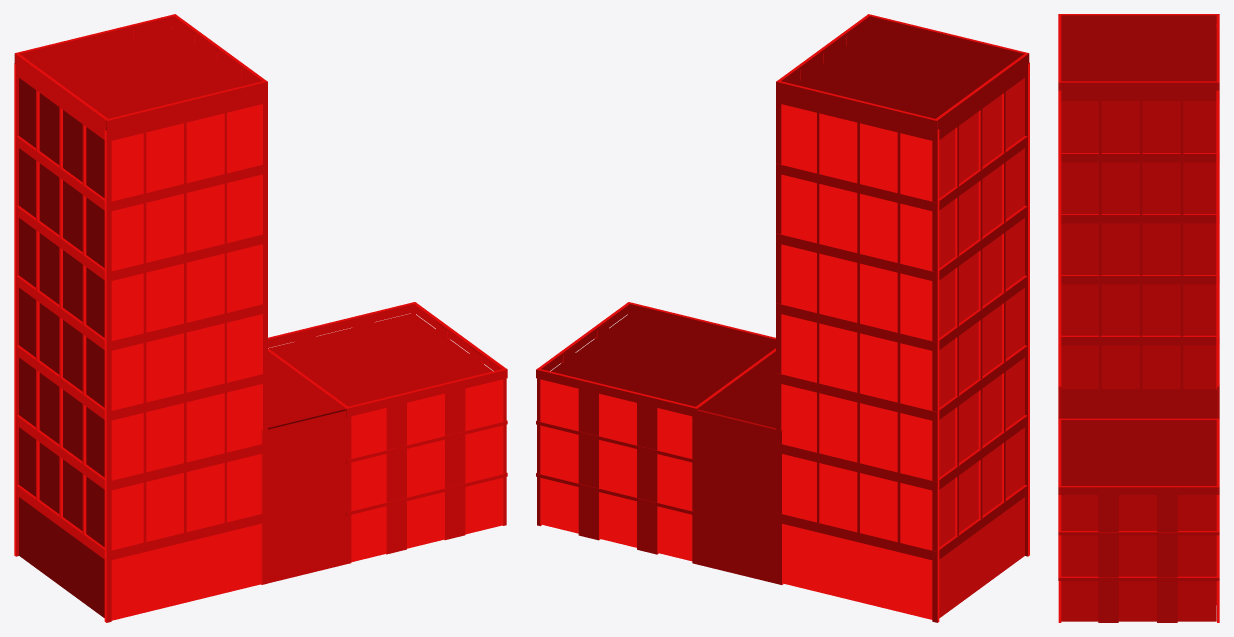
Rendered from MediumBuilding2_M_V1_Raghu.fbx.
The picture shows the model from 3 angles, left to right: view 1: azimuth 30°, elevation 25°; view 2: azimuth 150°, elevation 25°; view 3: azimuth 270°, elevation 25°; orthographic projection. The views are drawn at different scales.
Parts seen in each view (by area): view 1: medBuilding_M_v2_raghu_low; view 2: medBuilding_M_v2_raghu_low; view 3: medBuilding_M_v2_raghu_low.
Part boxes in pixels (box(x1,y1,x2,y2)): medBuilding_M_v2_raghu_low: box(14, 14, 507, 622); medBuilding_M_v2_raghu_low: box(536, 14, 1029, 622); medBuilding_M_v2_raghu_low: box(1058, 14, 1219, 622).
Bounding box in the file's own units: 2578 × 3082 × 1029.
